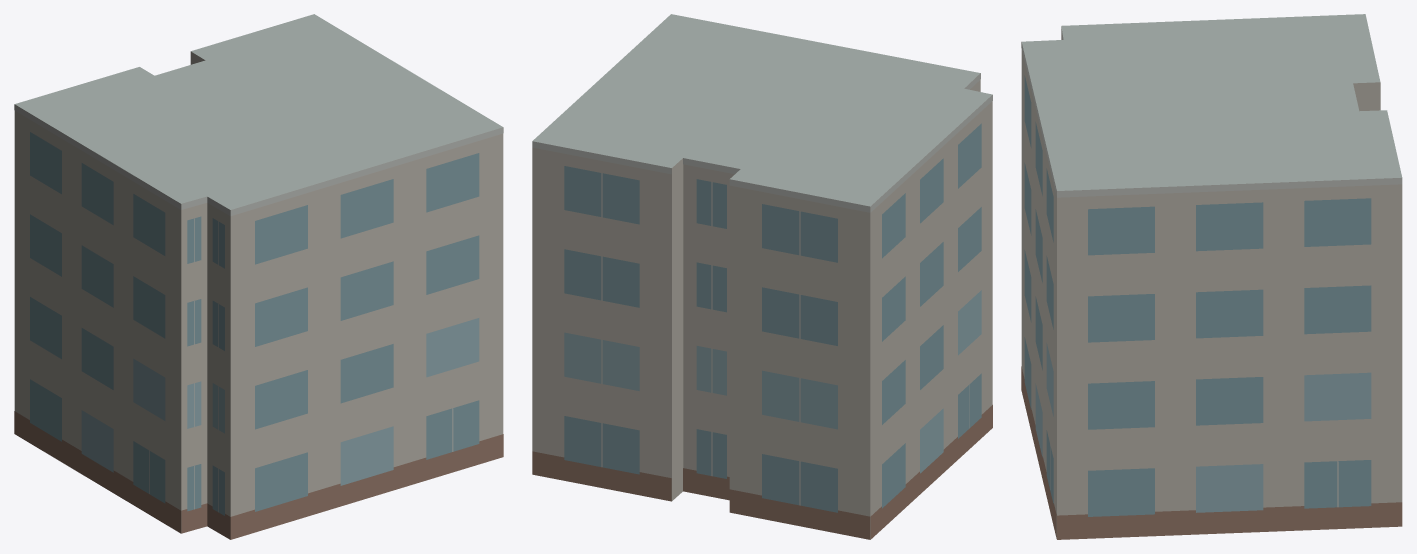
File: survey-upis-32676391.glb
3 renders of one model, left to right at view 1: azimuth 30°, elevation 25°; view 2: azimuth 150°, elevation 25°; view 3: azimuth 270°, elevation 25°, orthographic. The views are drawn at different scales.
Parts seen in each view (by area): view 1: survey-upis-32676391.tmp; view 2: survey-upis-32676391.tmp; view 3: survey-upis-32676391.tmp.
Boxes of the visible parts, x1=… form: survey-upis-32676391.tmp: x1=14, y1=14, x2=503, y2=539; survey-upis-32676391.tmp: x1=532, y1=14, x2=992, y2=539; survey-upis-32676391.tmp: x1=1021, y1=14, x2=1402, y2=539.
Size of the model in its own units: 14.11 by 12.95 by 12.82.
